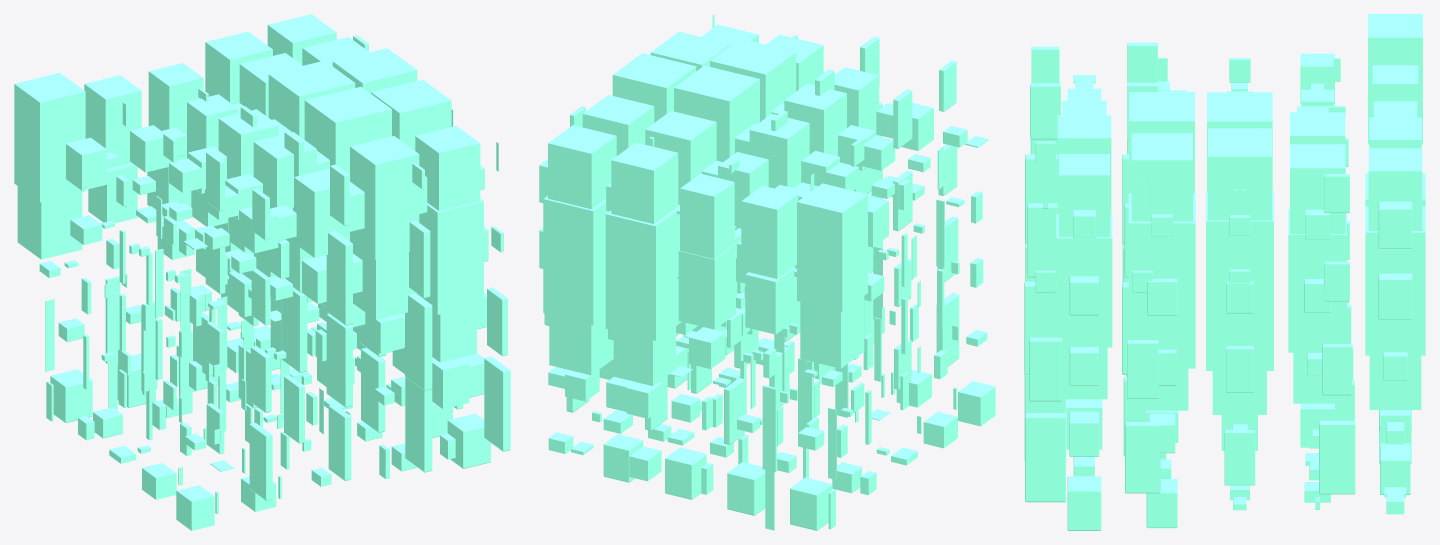
The picture shows the model from 3 angles, left to right: view 1: azimuth 30°, elevation 25°; view 2: azimuth 150°, elevation 25°; view 3: azimuth 270°, elevation 25°; orthographic projection. The views are drawn at different scales.
Visible parts, largest first — view 1: object 213, object 292, object 312, object 291, object 317, object 238, object 208, object 290, object 316, object 267, object 287, object 263 (+65 smaller); view 2: object 283, object 213, object 308, object 290, object 288, object 313, object 238, object 263, object 258, object 208, object 291, object 289 (+52 smaller); view 3: object 310, object 311, object 315, object 308, object 312, object 316, object 309, object 55, object 314, object 317, object 313, object 213 (+58 smaller).
Part boxes in pixels (x1,y1,x2,y2): object 213: [14, 73, 85, 202]; object 292: [350, 136, 419, 259]; object 312: [417, 199, 483, 314]; object 291: [304, 86, 391, 240]; object 317: [415, 126, 480, 210]; object 238: [84, 75, 141, 168]; object 208: [17, 186, 82, 259]; object 290: [268, 60, 355, 139]; object 316: [371, 79, 451, 150]; object 267: [294, 168, 349, 257]; object 287: [353, 244, 416, 319]; object 263: [148, 63, 203, 144]; object 283: [605, 204, 681, 340]; object 213: [797, 183, 867, 311]; object 308: [543, 196, 608, 325]; object 290: [674, 65, 759, 228]; object 288: [611, 142, 678, 223]; object 313: [548, 125, 616, 209]; object 238: [741, 185, 798, 278]; object 263: [680, 173, 734, 258]; object 258: [678, 244, 735, 329]; object 208: [800, 296, 864, 368]; object 291: [710, 38, 796, 121]; object 289: [645, 111, 716, 204]; object 310: [1206, 191, 1273, 370]; object 311: [1128, 193, 1195, 368]; object 315: [1208, 128, 1271, 220]; object 308: [1365, 206, 1425, 355]; object 312: [1056, 214, 1112, 347]; object 316: [1131, 133, 1192, 221]; object 309: [1288, 209, 1346, 352]; object 55: [1025, 413, 1065, 502]; object 314: [1290, 144, 1345, 233]; object 317: [1059, 154, 1109, 236]; object 313: [1368, 148, 1422, 230]; object 213: [1368, 14, 1422, 144].
Size of the model in its own units: 4.44 by 4.99 by 4.64.
